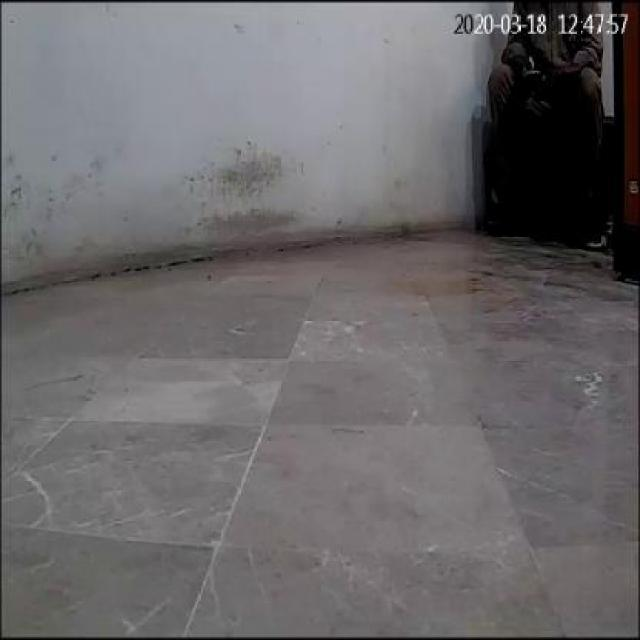spill: (402, 273, 476, 292)
